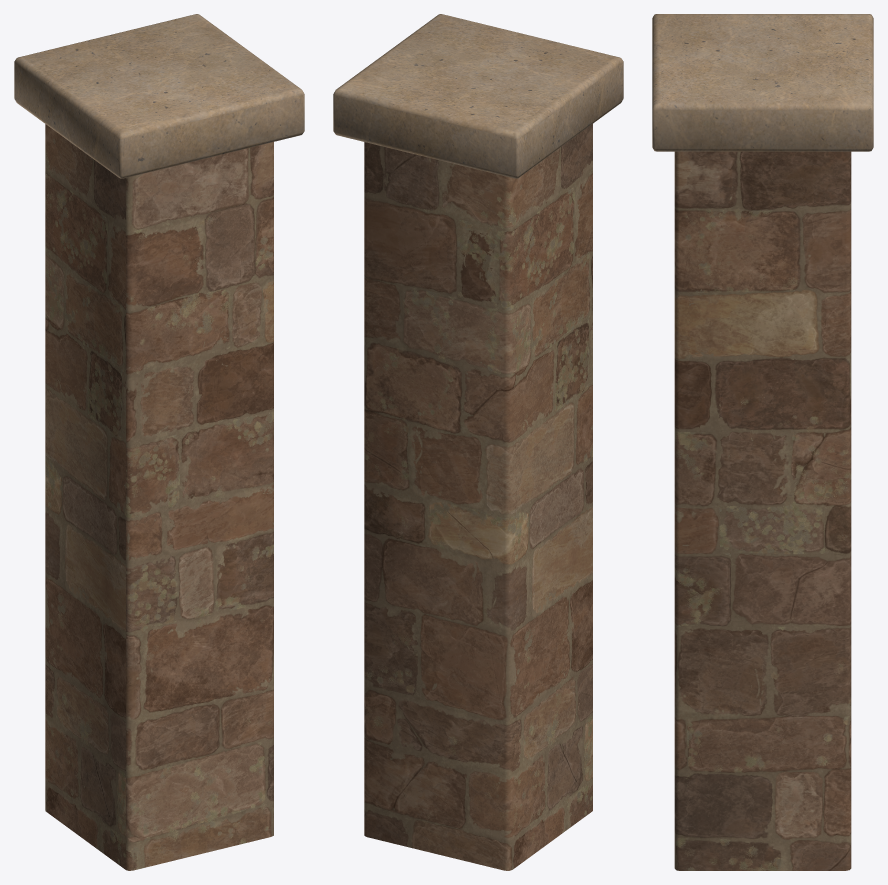
Rendered from SM_FenceAPillar.fbx.
3 renders of one model, left to right at view 1: azimuth 30°, elevation 25°; view 2: azimuth 150°, elevation 25°; view 3: azimuth 270°, elevation 25°, orthographic. The views are drawn at different scales.
Visible parts, largest first — view 1: SM_FenceAPillar_LOD0; view 2: SM_FenceAPillar_LOD0; view 3: SM_FenceAPillar_LOD0.
Part boxes in pixels (bbox=[...]): SM_FenceAPillar_LOD0: bbox=[14, 14, 304, 870]; SM_FenceAPillar_LOD0: bbox=[333, 14, 623, 870]; SM_FenceAPillar_LOD0: bbox=[652, 14, 873, 870].
Bounding box in the file's own units: 47.39 × 47.39 × 183.
Materials: 2 (2 with a texture image).
